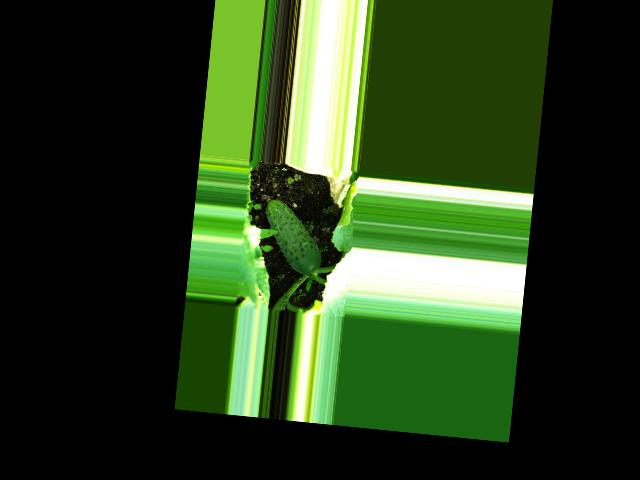cucumber: (259, 198, 327, 277)
